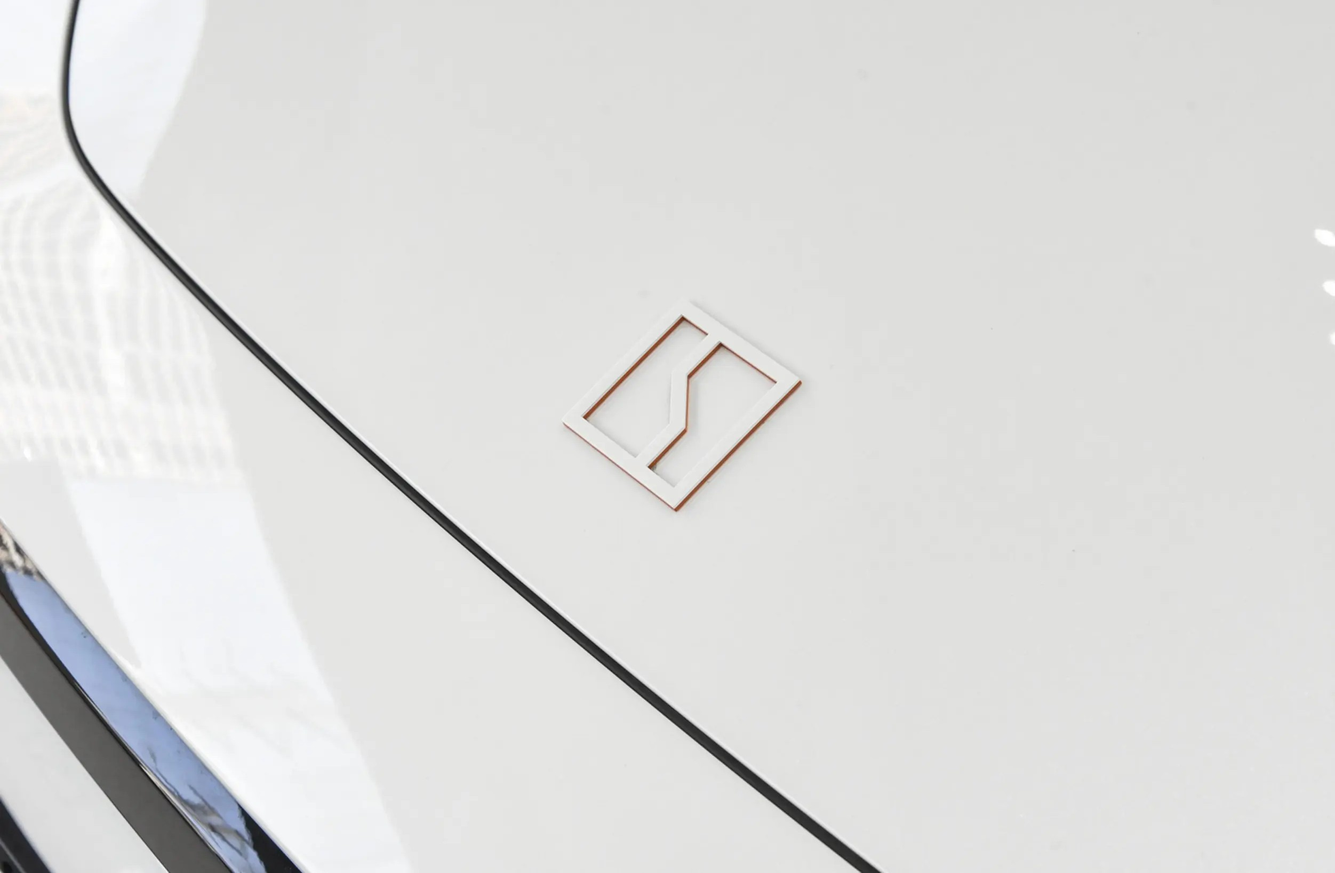ZEEKR: (563, 298, 801, 510)
